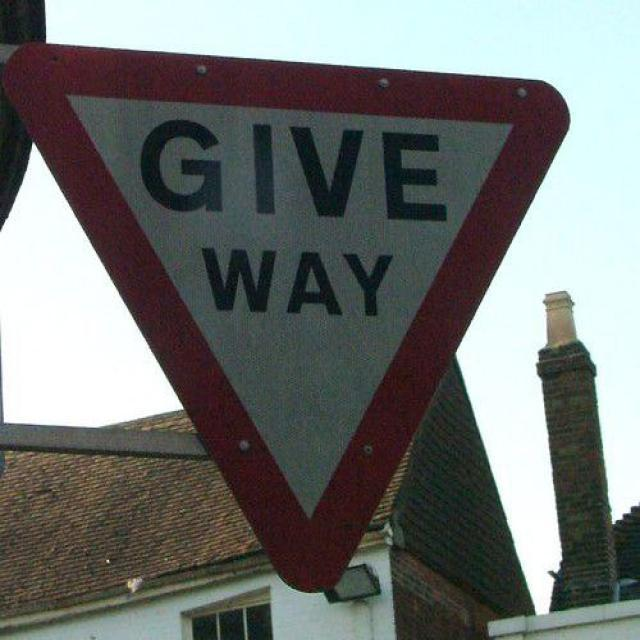give way: (14, 43, 574, 597)
